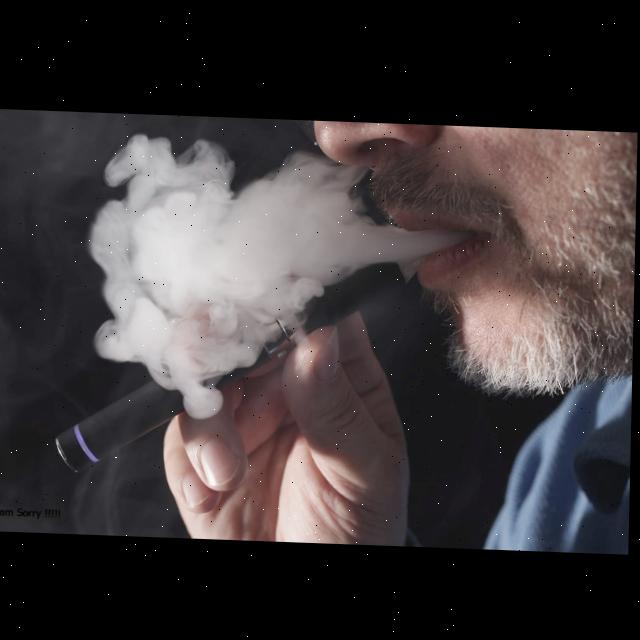vape: (54, 221, 436, 480)
